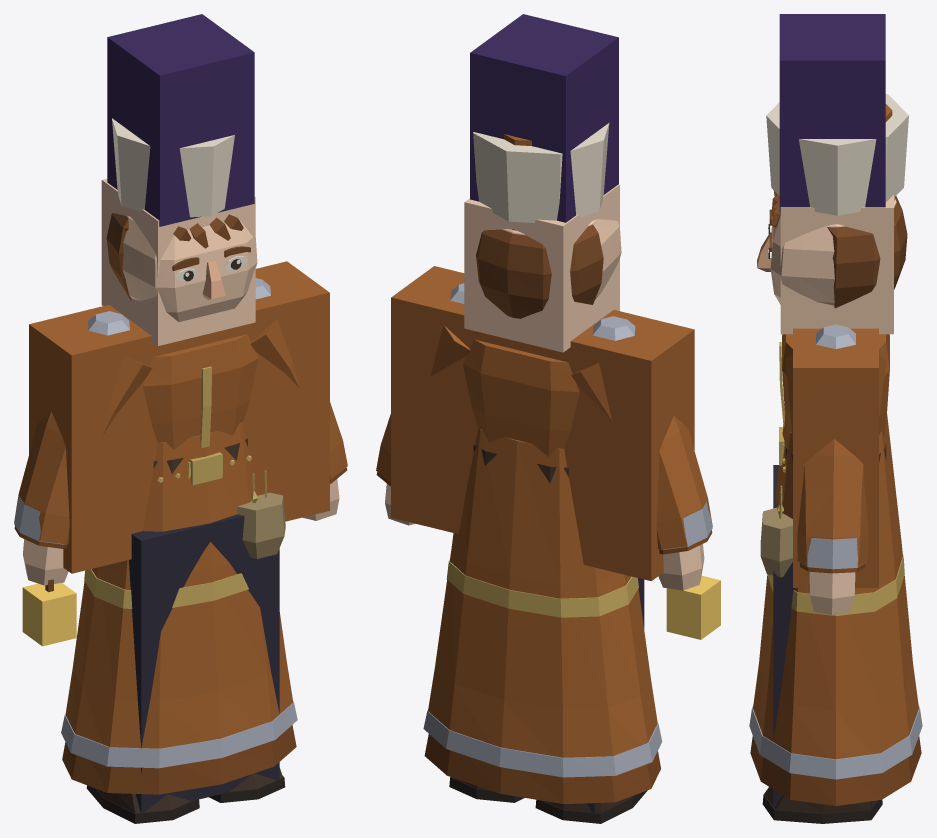
The model's file is kadro-kursat.obj.
3 renders of one model, left to right at view 1: azimuth 30°, elevation 25°; view 2: azimuth 150°, elevation 25°; view 3: azimuth 270°, elevation 25°, orthographic.
Parts seen in each view (by area): view 1: ocakcan-uzak-govde, ocakcan-etek-destansi-efsanevi, ocakcan-uzak-baslik, ocakcan-uzak-bacak, ocakcan-govde, ocakcan-kollar, ocakcan-kafa, ocakcan-uzak-kafa, ocakcan-etek-kaplamasi-destansi-efsanevi, kursat-kalpak, ocakcan-etek-kenari-destansi-efsanevi, kursat-fener (+11 smaller); view 2: ocakcan-etek-destansi-efsanevi, ocakcan-uzak-govde, ocakcan-uzak-baslik, ocakcan-uzak-kafa, ocakcan-govde, kursat-kalpak, ocakcan-sac, ocakcan-kollar, ocakcan-etek-kaplamasi-destansi-efsanevi, ocakcan-etek-kenari-destansi-efsanevi, ocakcan-etek-nakis-destansi-efsanevi, kursat-fener (+5 smaller); view 3: ocakcan-etek-destansi-efsanevi, ocakcan-uzak-baslik, ocakcan-uzak-govde, kursat-kalpak, ocakcan-uzak-kafa, ocakcan-kollar, ocakcan-etek-kaplamasi-destansi-efsanevi, ocakcan-sac, ocakcan-kafa, ocakcan-etek-kenari-destansi-efsanevi, ocakcan-uzak-bacak, ocakcan-kese (+8 smaller).
Part boxes in pixels (box(x1,y1,x2,y2)): ocakcan-uzak-govde: box(29, 261, 329, 573); ocakcan-etek-destansi-efsanevi: box(65, 422, 293, 748); ocakcan-uzak-baslik: box(107, 14, 254, 226); ocakcan-uzak-bacak: box(129, 514, 279, 813); ocakcan-govde: box(143, 334, 258, 449); ocakcan-kollar: box(14, 319, 347, 544); ocakcan-kafa: box(122, 215, 257, 321); ocakcan-uzak-kafa: box(101, 178, 255, 345); ocakcan-etek-kaplamasi-destansi-efsanevi: box(62, 725, 296, 794); kursat-kalpak: box(112, 118, 234, 217); ocakcan-etek-kenari-destansi-efsanevi: box(61, 701, 297, 768); kursat-fener: box(22, 583, 76, 646); ocakcan-etek-destansi-efsanevi: box(428, 428, 657, 757); ocakcan-uzak-govde: box(391, 266, 694, 581); ocakcan-uzak-baslik: box(470, 14, 618, 222); ocakcan-uzak-kafa: box(464, 184, 619, 352); ocakcan-govde: box(463, 339, 579, 456); kursat-kalpak: box(473, 123, 609, 222); ocakcan-sac: box(476, 224, 603, 318); ocakcan-kollar: box(376, 325, 712, 549); ocakcan-etek-kaplamasi-destansi-efsanevi: box(424, 734, 660, 803); ocakcan-etek-kenari-destansi-efsanevi: box(423, 709, 662, 777); ocakcan-etek-nakis-destansi-efsanevi: box(446, 560, 638, 617); kursat-fener: box(666, 575, 720, 639); ocakcan-etek-destansi-efsanevi: box(753, 414, 918, 759); ocakcan-uzak-baslik: box(779, 14, 885, 213); ocakcan-uzak-govde: box(793, 328, 878, 587); kursat-kalpak: box(766, 94, 908, 215); ocakcan-uzak-kafa: box(780, 195, 893, 334); ocakcan-kollar: box(785, 355, 886, 566); ocakcan-etek-kaplamasi-destansi-efsanevi: box(750, 736, 921, 805); ocakcan-sac: box(771, 190, 907, 308); ocakcan-kafa: box(770, 197, 896, 305); ocakcan-etek-kenari-destansi-efsanevi: box(749, 705, 922, 779); ocakcan-uzak-bacak: box(773, 465, 872, 807); ocakcan-kese: box(760, 507, 792, 577).
Bounding box in the file's own units: 2.27 × 4.96 × 1.04.
